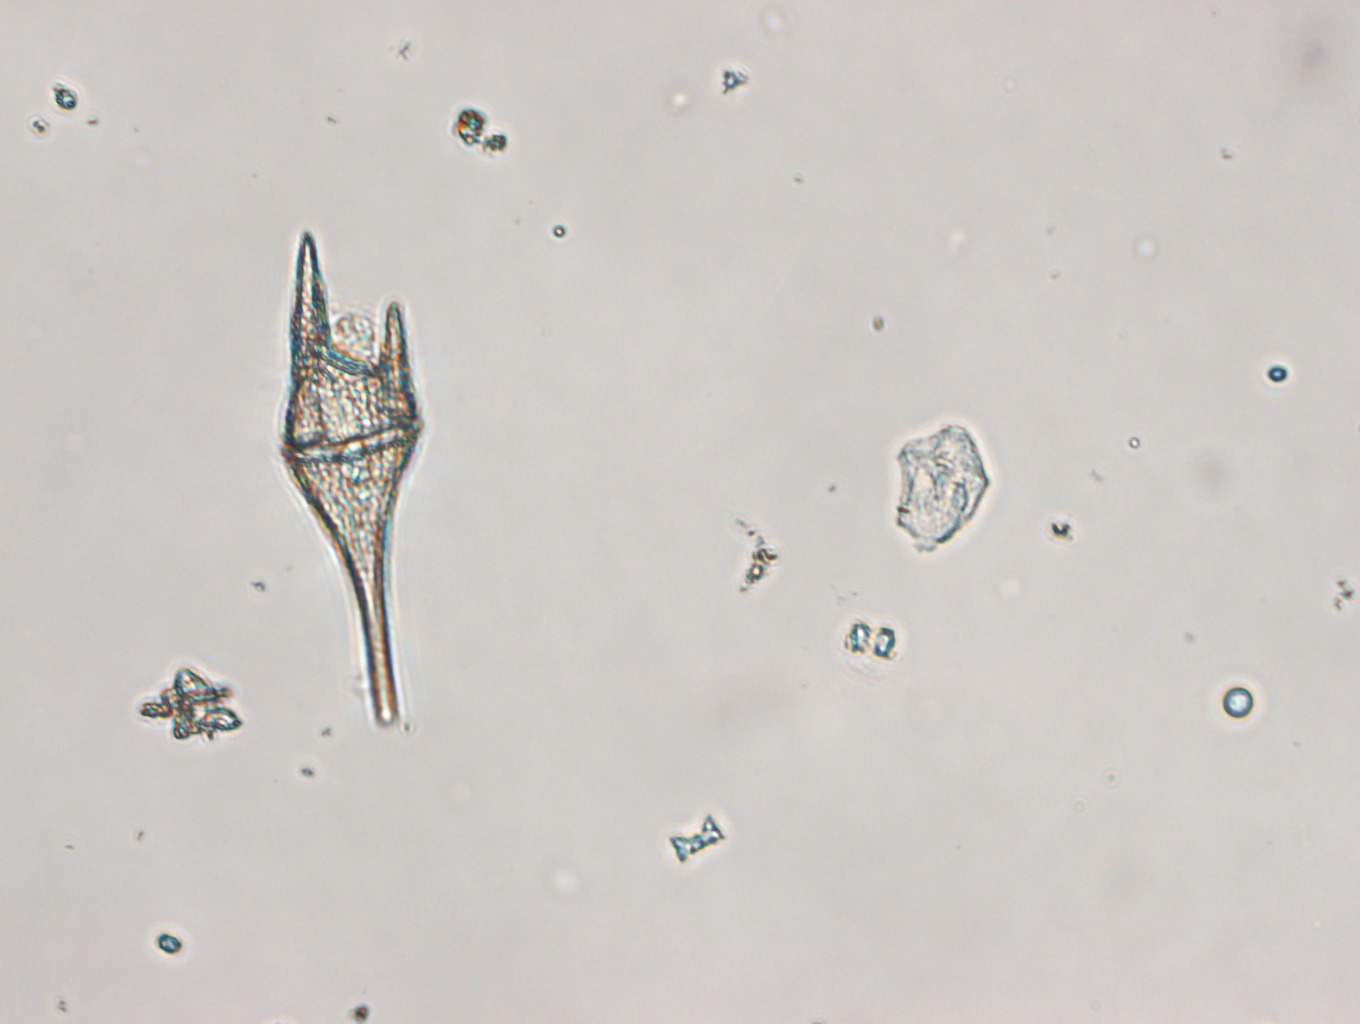ceratium furca: (277, 226, 425, 727)
